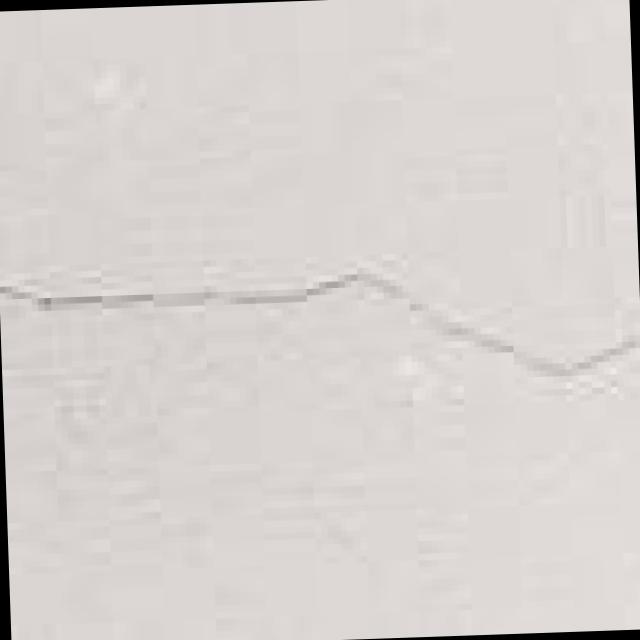crack: (0, 245, 629, 388)
